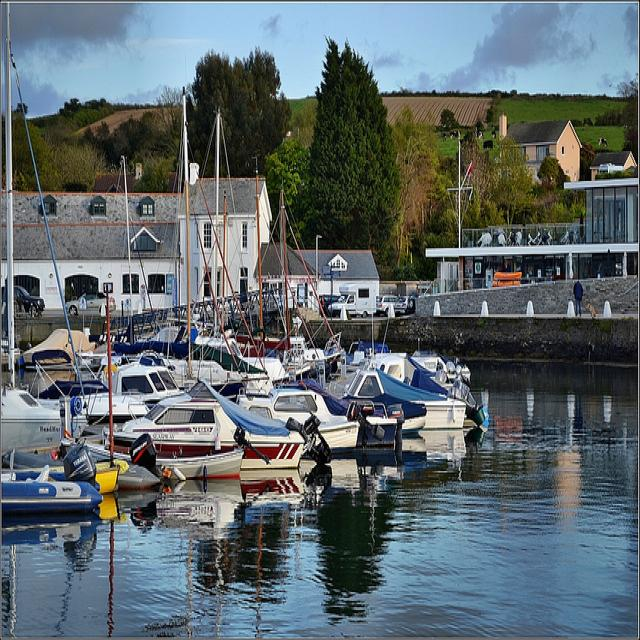Vehicle: (328, 280, 376, 318), (65, 291, 116, 317), (12, 286, 46, 314), (320, 294, 338, 318), (376, 296, 399, 314), (395, 297, 415, 313)
